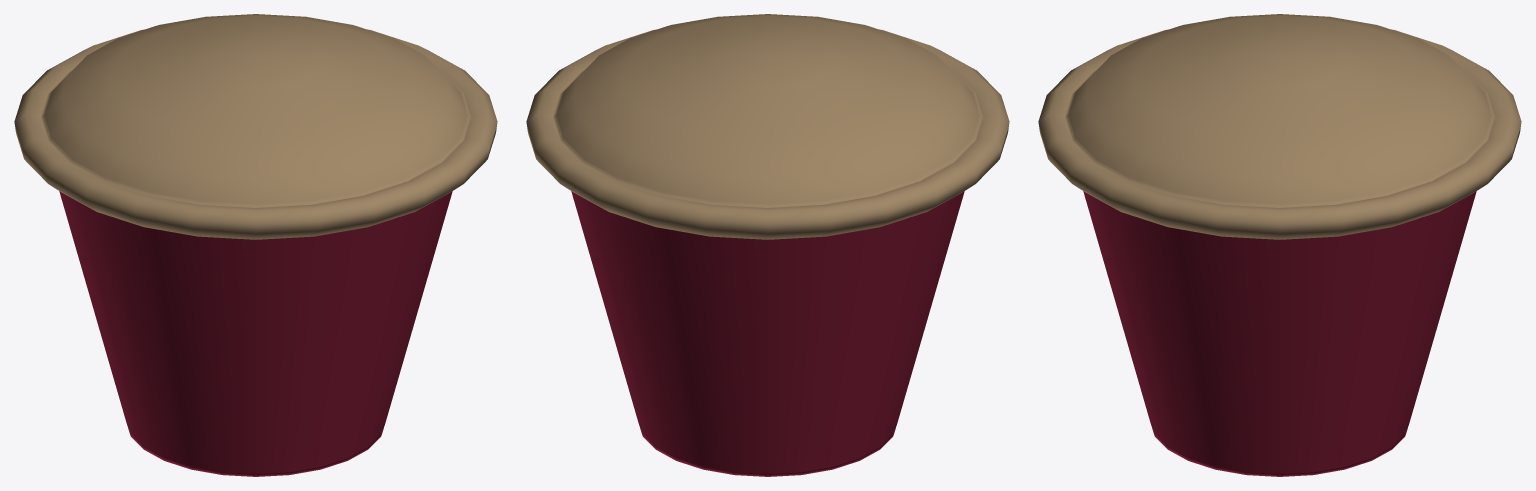
Rendered from cup_cake.fbx.
3 views of the same model, side by side, from view 1: azimuth 30°, elevation 25°; view 2: azimuth 150°, elevation 25°; view 3: azimuth 270°, elevation 25° (orthographic).
Parts seen in each view (by area): view 1: pDisc2; view 2: pDisc2; view 3: pDisc2.
Part boxes in pixels (left/top/right/bottom): pDisc2: left=14, top=14, right=497, bottom=476; pDisc2: left=526, top=14, right=1009, bottom=476; pDisc2: left=1038, top=14, right=1521, bottom=476.
Bounding box in the file's own units: 3.72 × 3.14 × 3.72.
